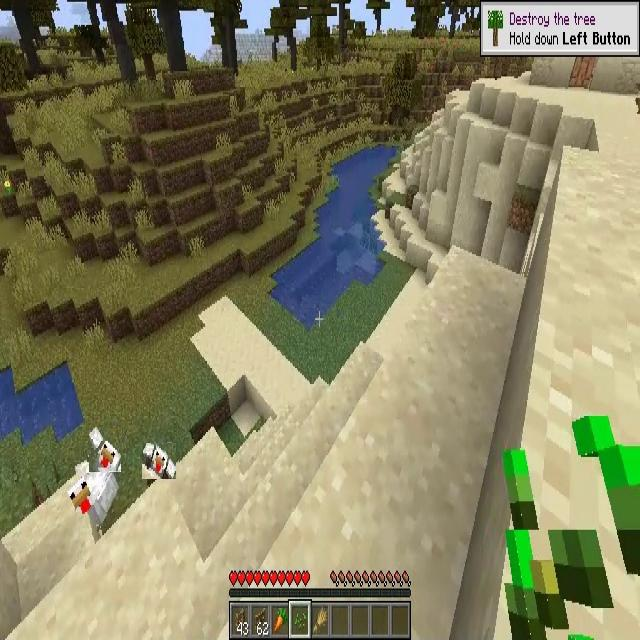duck: (68, 469, 115, 532), (89, 427, 121, 472), (142, 443, 176, 479)
